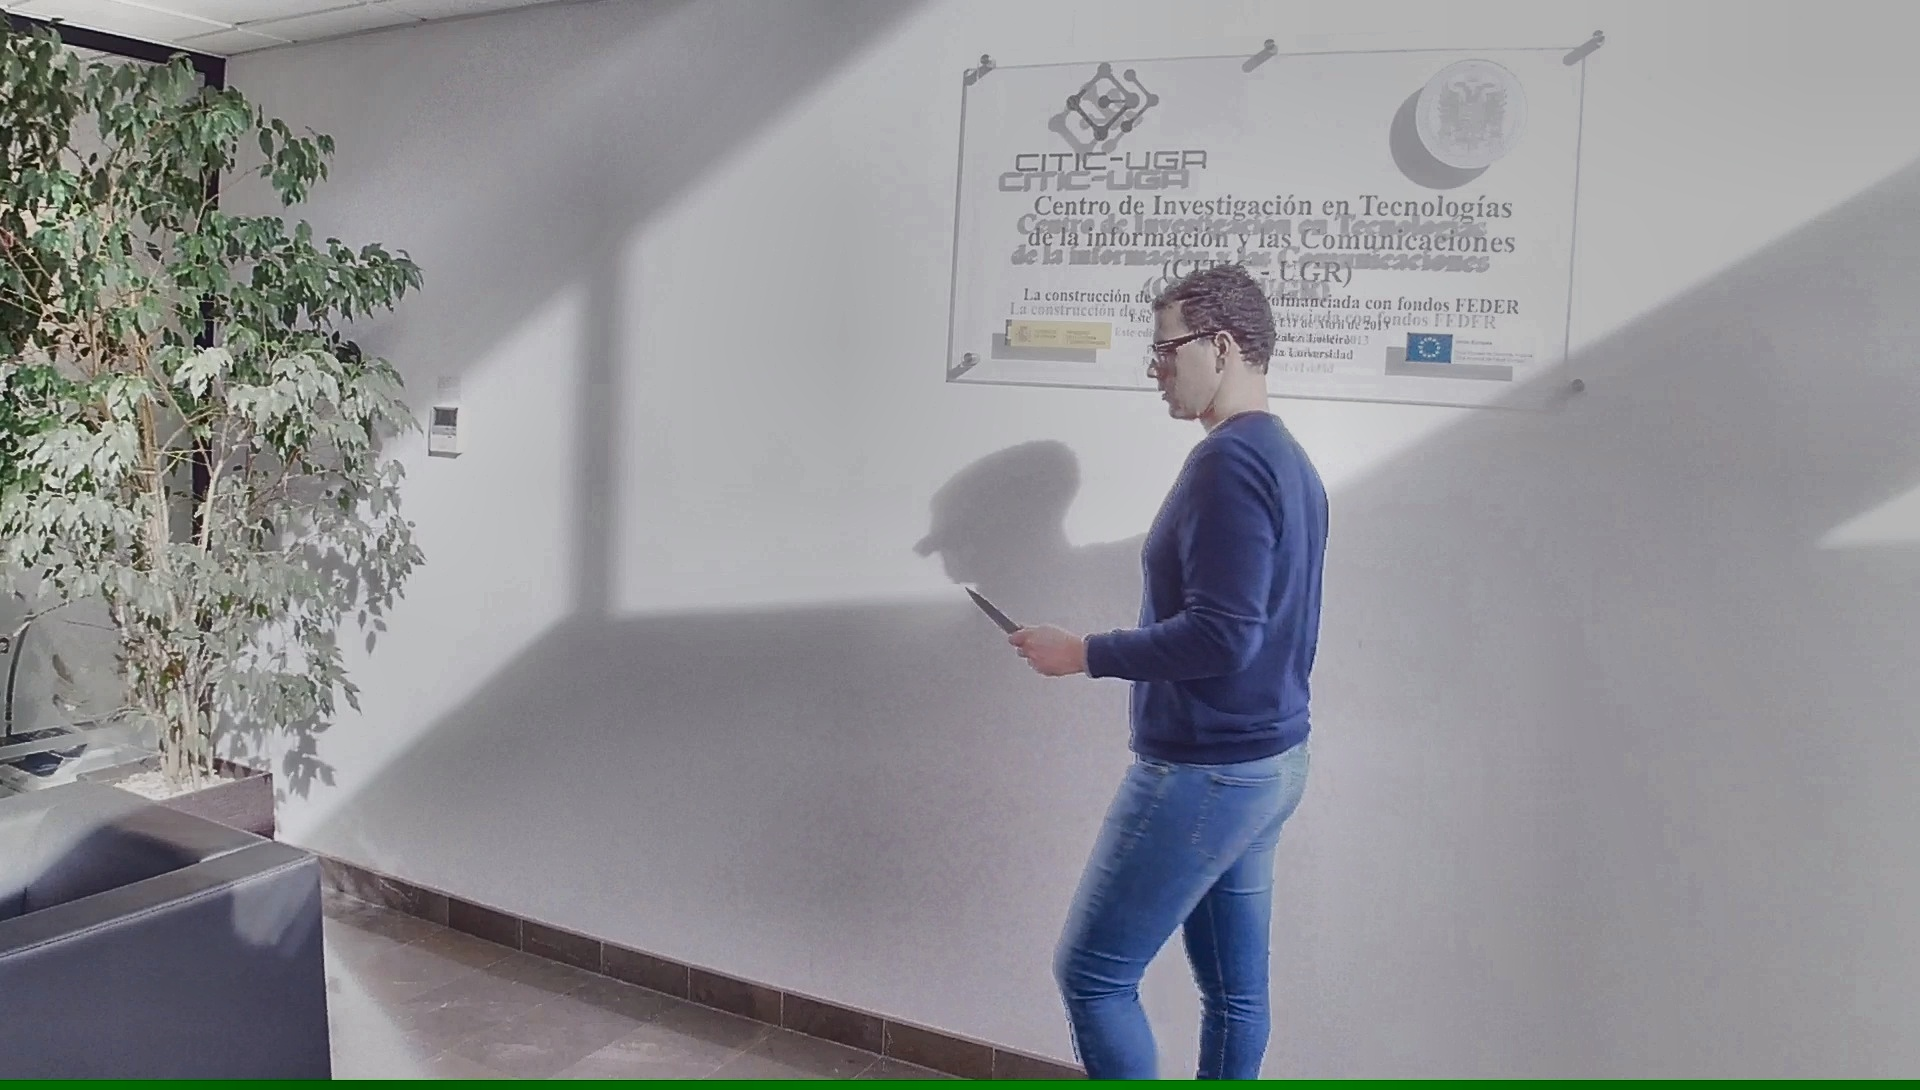knife: (959, 579, 1050, 670)
